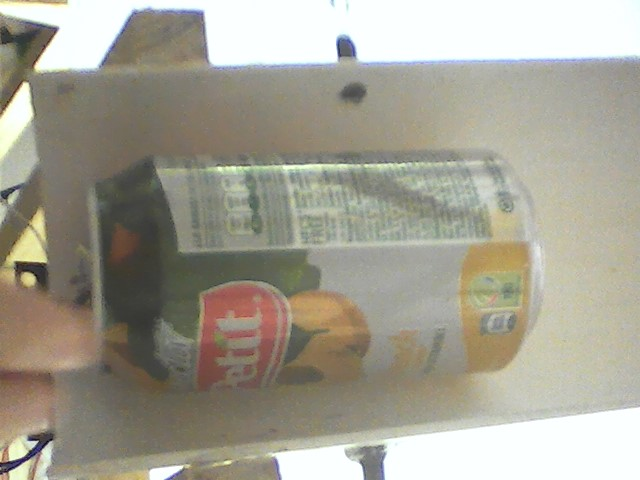lata: (80, 142, 552, 408)
